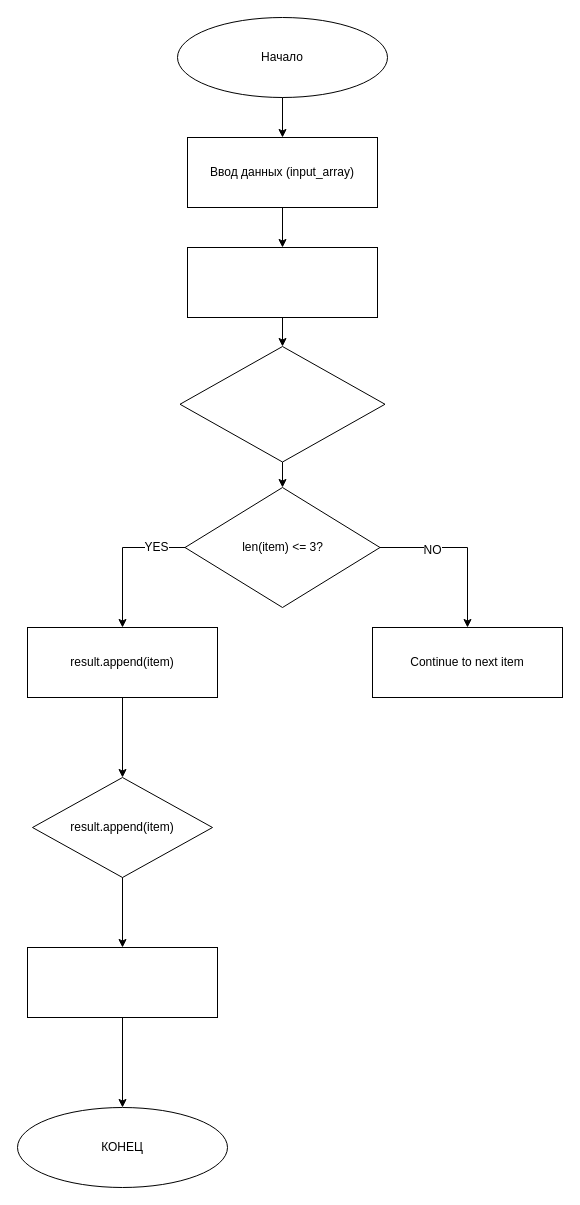
The diagram is 580 pixels wide and 1205 high, and some of its shapes have lost their labels. The centre of each missing label's shape, as x and y in pixels:
"for item in input_array" belongs at (x=282, y=404).
"result = []" belongs at (x=282, y=282).
"Return result" belongs at (x=122, y=982).
